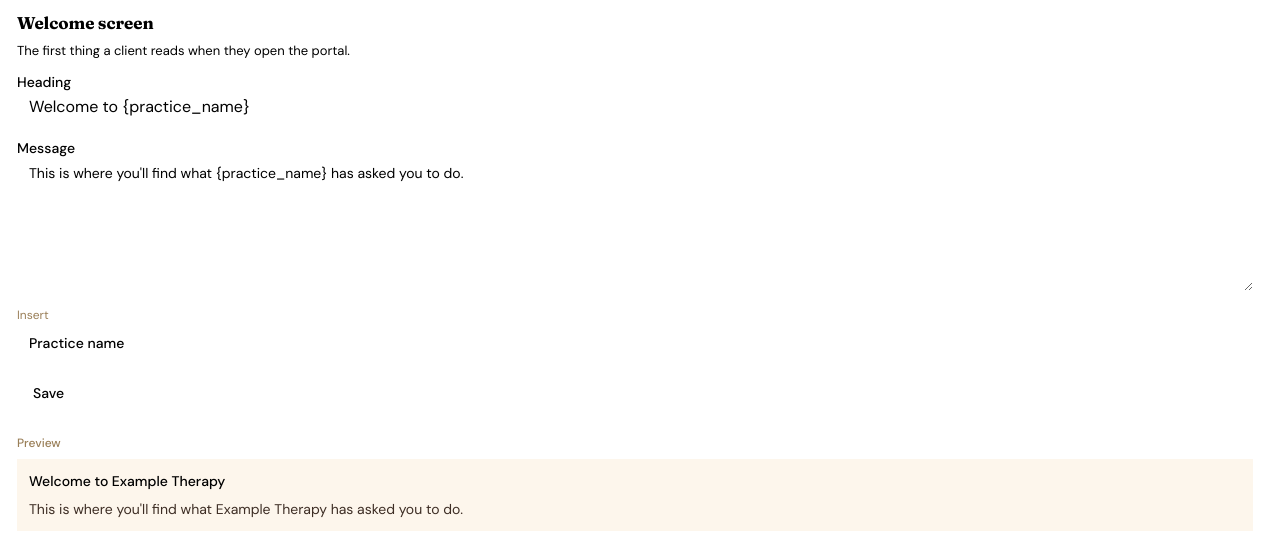
Test: PortalWelcomeCard › inserts the practice name where the cursor is and saves
Replace the text in the text box labelled "Message" with "Hi from .": (635, 223) [17,155,1253,291]
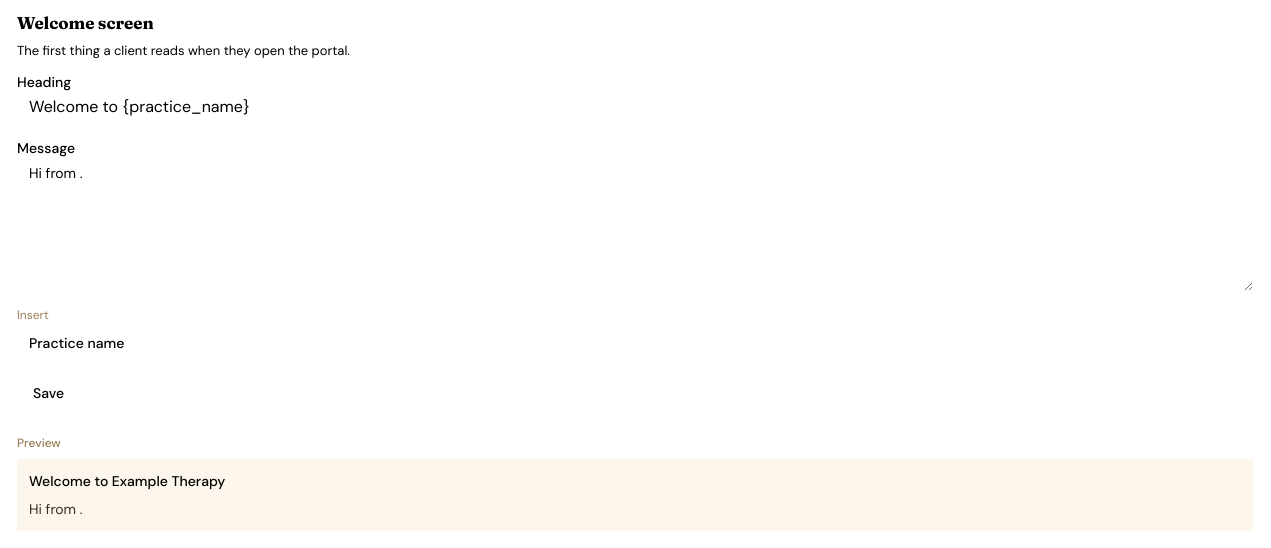
Click the button "Practice name": (77, 343) [17,327,136,359]
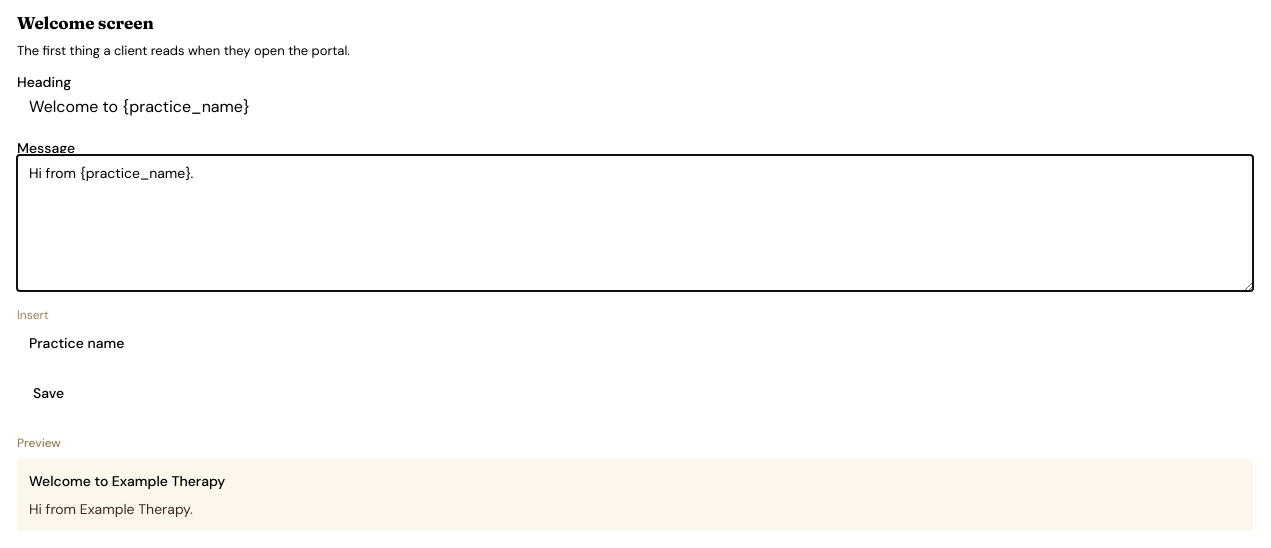
Expected: the text box labelled "Message" holds "Hi from {practice_name}.", [17,155,1253,291]
Expected: the element with test id "portal-welcome-card-preview" shows "Hi from Example Therapy.", [29,500,193,518]
Click the button "Save": (49, 393) [17,375,80,411]
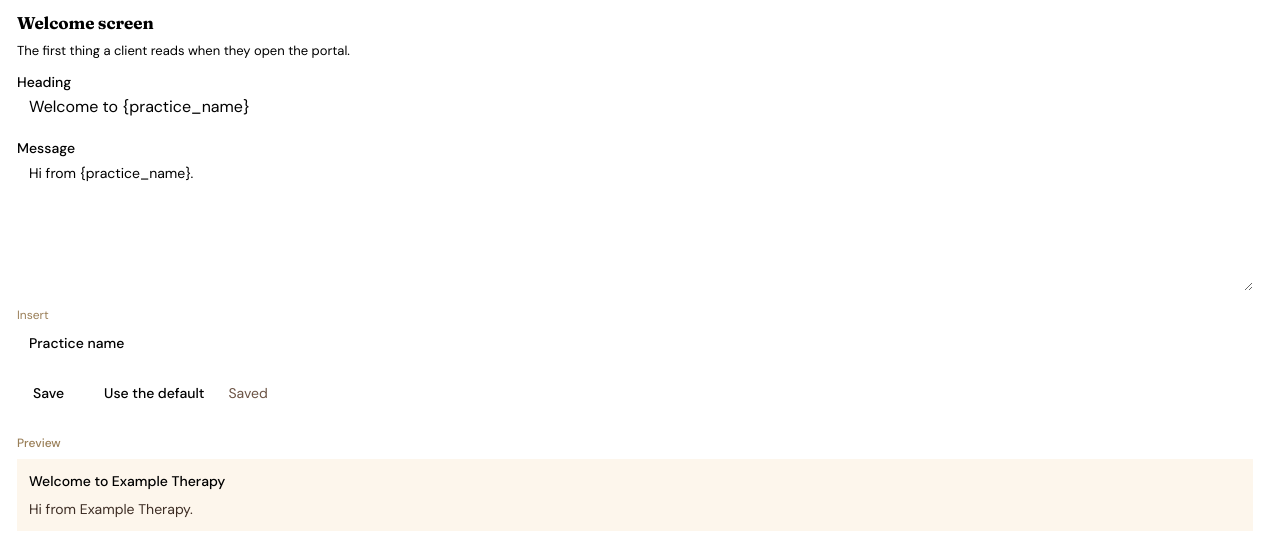
Expected: the text "Saved" is shown, [228,383,268,403]
